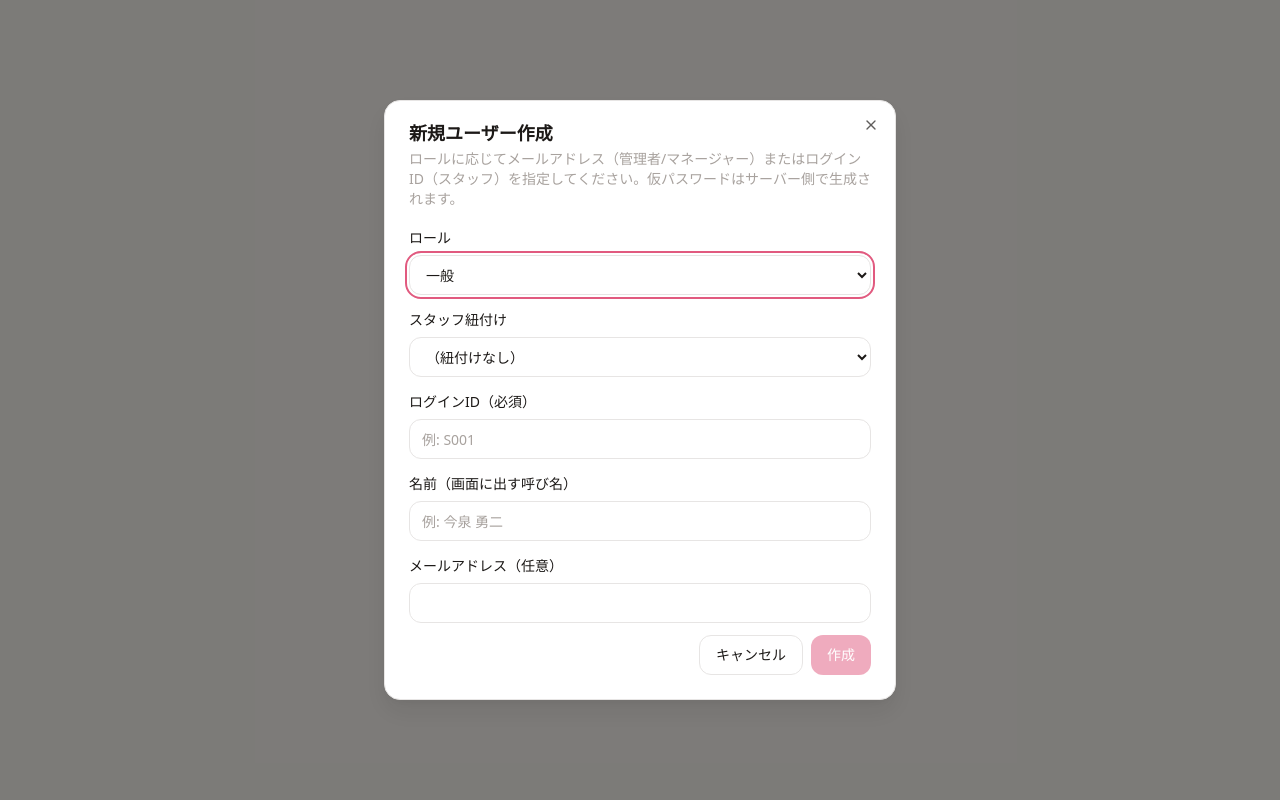
Test case: UserCreateDialog — P2 staff linkage › re-picking a different staff overwrites the auto-filled username
Select "S002 佐藤 花子" in the dropdown labelled "スタッフ紐付け". click: [640, 357]
box: [409,337,871,377]
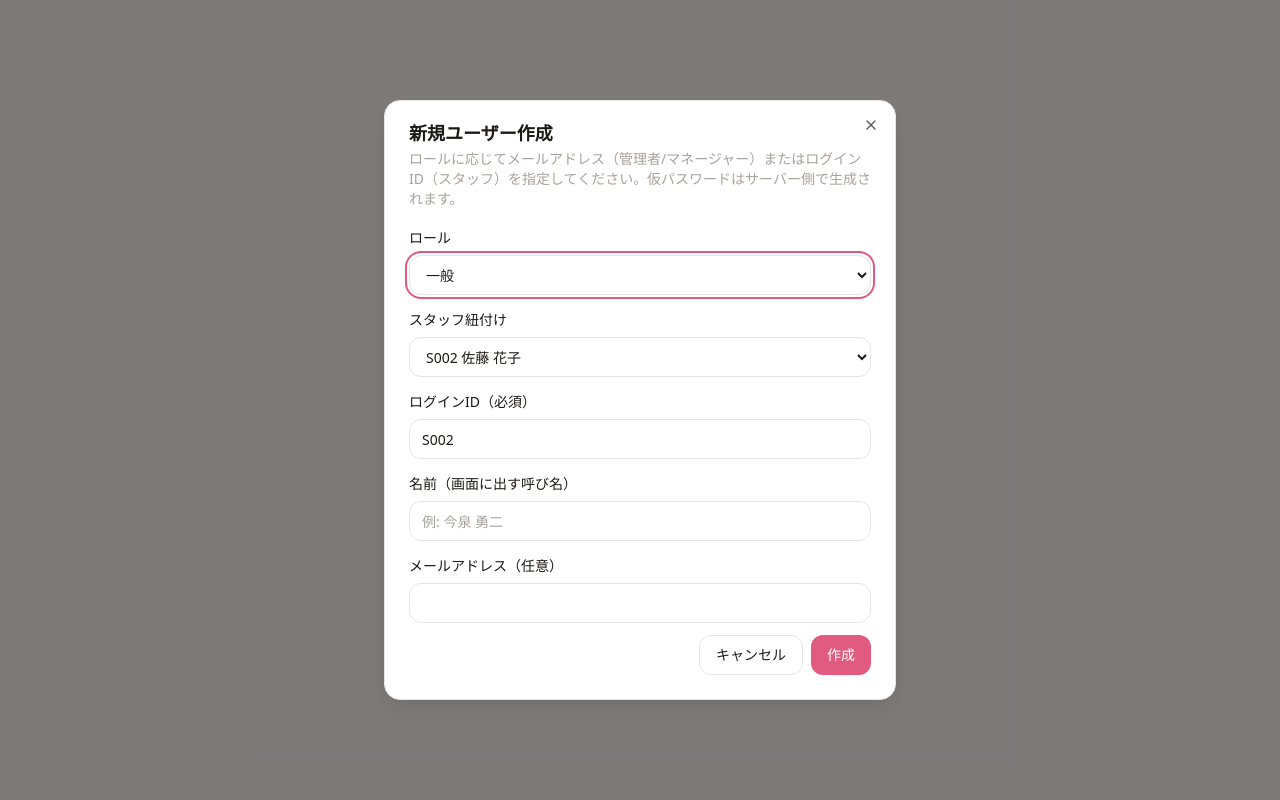
expect the field labelled "ログインID（必須）" holds "S002": met, box [409,419,871,459]
Change to staff-3 — should overwrite because it was auto-filled.
Select "S003 田中 一郎" in the dropdown labelled "スタッフ紐付け". click: [640, 357]
box: [409,337,871,377]
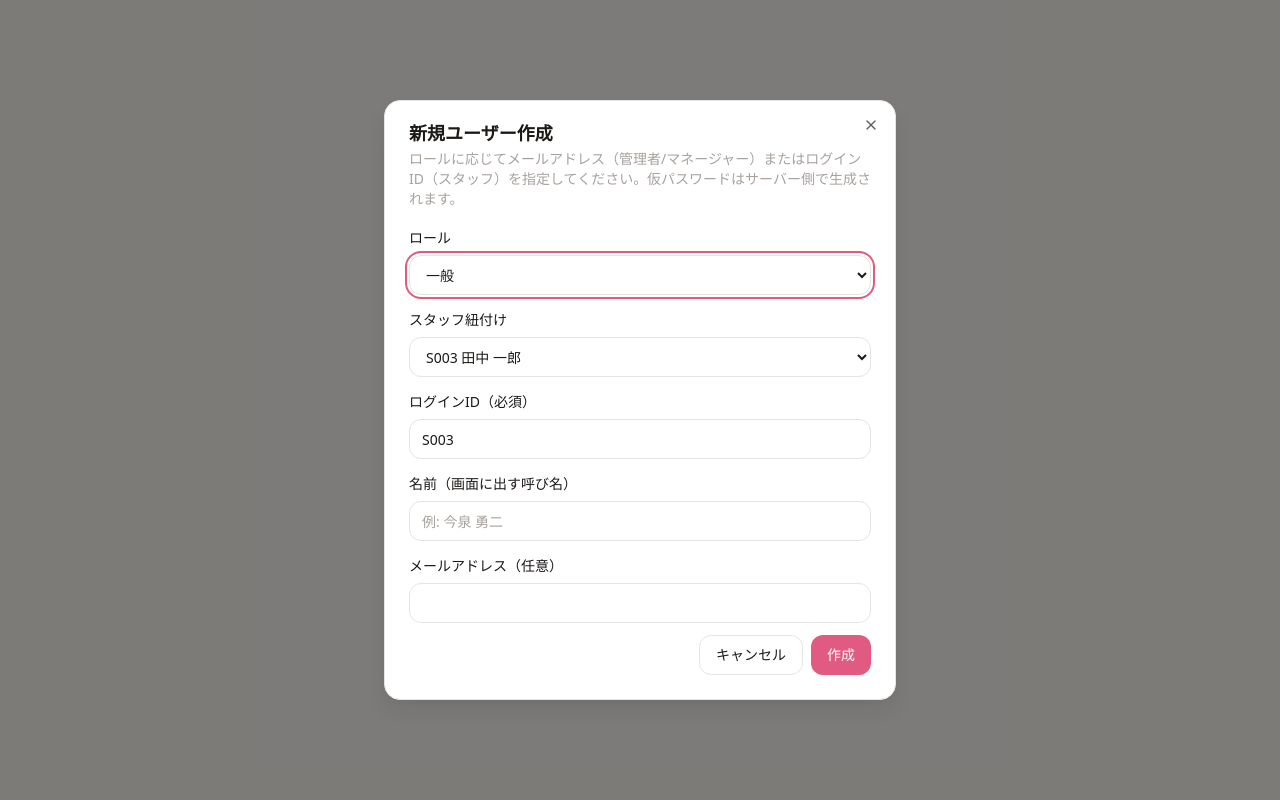
expect the field labelled "ログインID（必須）" holds "S003": met, box [409,419,871,459]
